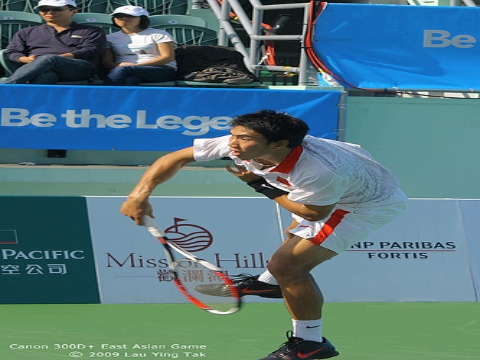hand: (118, 194, 156, 226)
